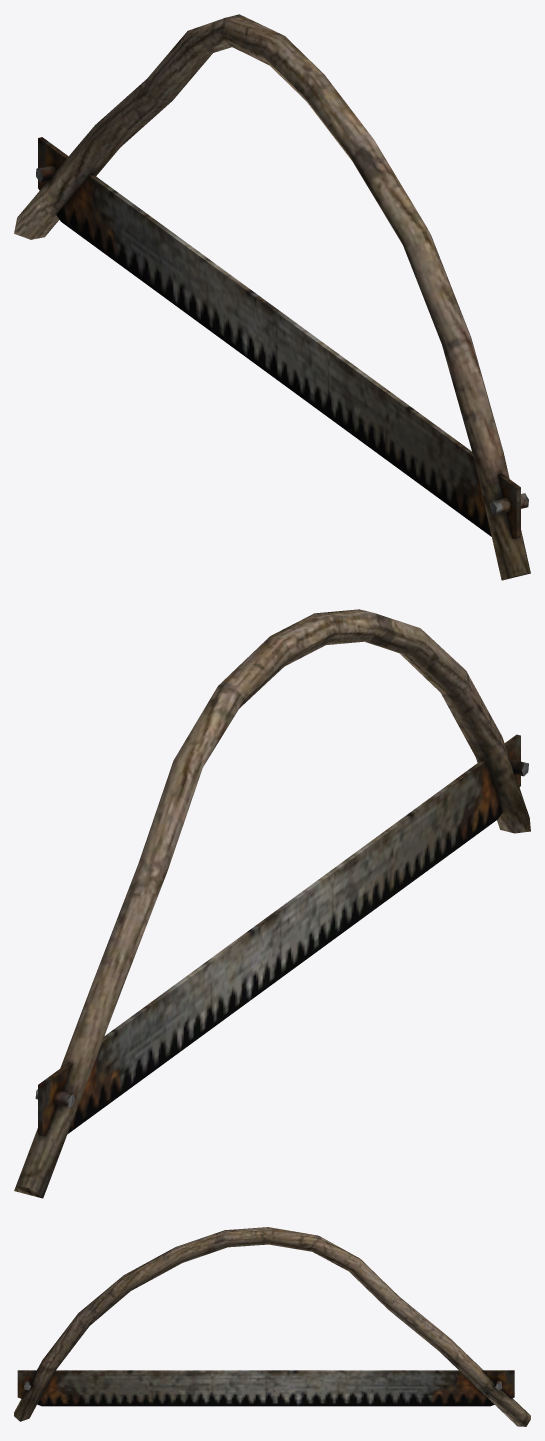
Rendered from saw.dae.
3 views of the same model, one above another, from view 1: azimuth 30°, elevation 25°; view 2: azimuth 150°, elevation 25°; view 3: azimuth 270°, elevation 25° (orthographic). The views are drawn at different scales.
Parts seen in each view (by area): view 1: polySurface1; view 2: polySurface1; view 3: polySurface1.
Boxes of the visible parts, x1,y1,x2,y2 form: polySurface1: (14,14,530,580); polySurface1: (14,609,530,1198); polySurface1: (14,1227,530,1426).
Bounding box in the file's own units: 0.0118 × 0.1124 × 0.2693.
